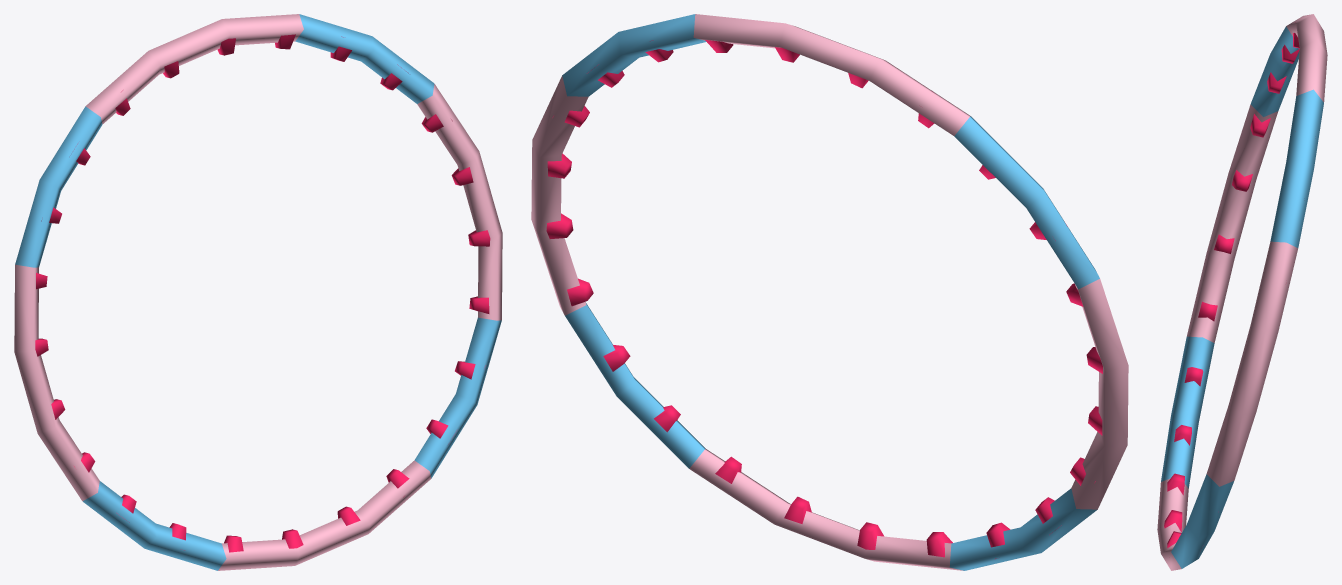
Rendered from toy_011.glb.
The picture shows the model from 3 angles, left to right: view 1: azimuth 30°, elevation 25°; view 2: azimuth 150°, elevation 25°; view 3: azimuth 270°, elevation 25°; orthographic projection. The views are drawn at different scales.
Visible parts, largest first — view 1: toy_011; view 2: toy_011; view 3: toy_011.
Part boxes in pixels (x1,y1,x2,y2): toy_011: [14, 14, 502, 570]; toy_011: [531, 14, 1128, 570]; toy_011: [1157, 14, 1327, 570].
Size of the model in its own units: 1.2 by 1.16 by 0.3521.
Materials: 1 (1 with a texture image).
